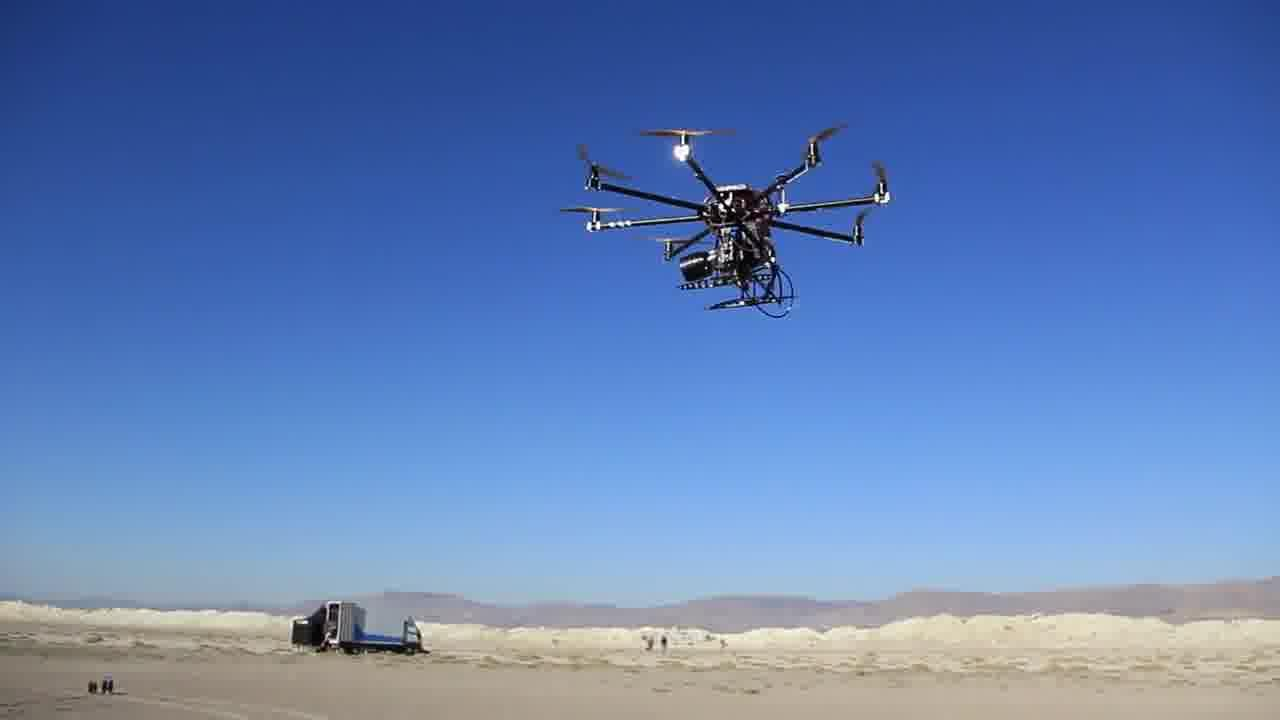drone: (573, 110, 853, 317)
